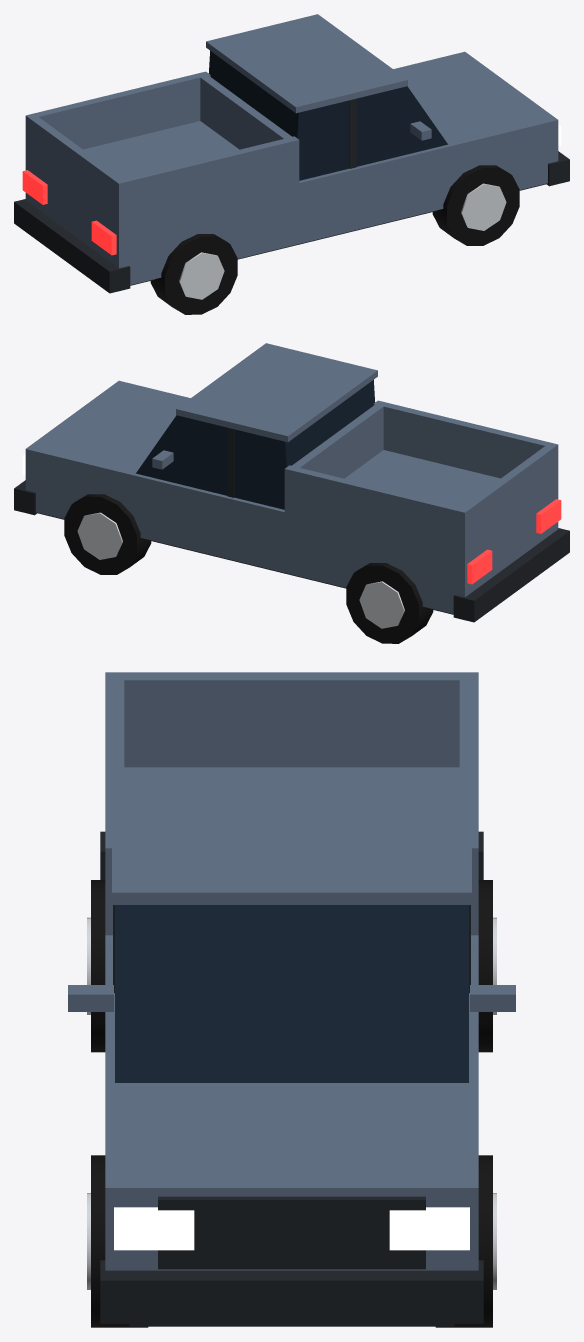
The model's file is pickup.glb.
3 views of the same model, one above another, from view 1: azimuth 30°, elevation 25°; view 2: azimuth 150°, elevation 25°; view 3: azimuth 270°, elevation 25° (orthographic). The views are drawn at different scales.
Parts seen in each view (by area): view 1: Body, BedSide (×2), Roof, Cabin, Wheel (×2), Tailgate, Bumper (×2), BedFront, Taillight (×2), Pillar; view 2: Body, BedSide (×2), Roof, Cabin, Wheel (×2), Tailgate, Bumper (×2), BedFront, Taillight (×2), Pillar; view 3: Cabin, Body, Roof, Tailgate, Bumper, Grille, Wheel (×4), Headlight (×2), BedSide (×2), Pickup_Truck, Chassis.
Boxes of the visible parts, box(x1,y1,x2,y2) form: Body: box(25, 51, 558, 284); BedSide (×2): box(28, 71, 299, 226); Roof: box(206, 14, 407, 113); Cabin: box(209, 51, 447, 180); Wheel (×2): box(150, 165, 519, 314); Tailgate: box(25, 114, 127, 226); Bumper (×2): box(14, 151, 569, 293); BedFront: box(199, 73, 296, 183); Taillight (×2): box(22, 170, 116, 255); Pillar: box(349, 98, 356, 168); Body: box(25, 380, 558, 613); BedSide (×2): box(284, 400, 555, 554); Roof: box(176, 343, 377, 442); Cabin: box(136, 380, 374, 509); Wheel (×2): box(64, 494, 433, 643); Tailgate: box(456, 443, 558, 555); Bumper (×2): box(14, 480, 569, 622); BedFront: box(287, 404, 383, 512); Taillight (×2): box(467, 499, 561, 584); Pillar: box(227, 427, 234, 497); Cabin: box(115, 905, 468, 1082); Body: box(105, 767, 478, 1270); Roof: box(112, 783, 471, 904); Tailgate: box(105, 672, 478, 767); Bumper: box(100, 1260, 483, 1323); Grille: box(158, 1196, 425, 1269); Wheel (×4): box(87, 880, 496, 1327); Headlight (×2): box(114, 1207, 469, 1250); BedSide (×2): box(105, 674, 478, 935); Pickup_Truck: box(68, 985, 515, 1011); Chassis: box(129, 1324, 454, 1326).
Size of the model in its own units: 5.55 by 2.06 by 2.34.
